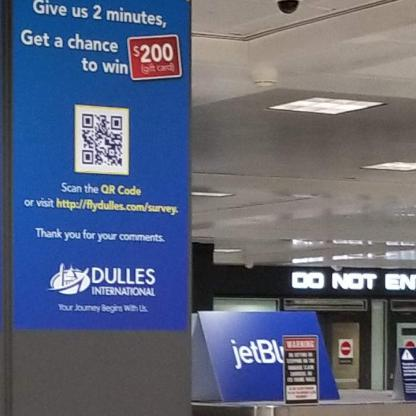qr: (79, 110, 126, 171)
